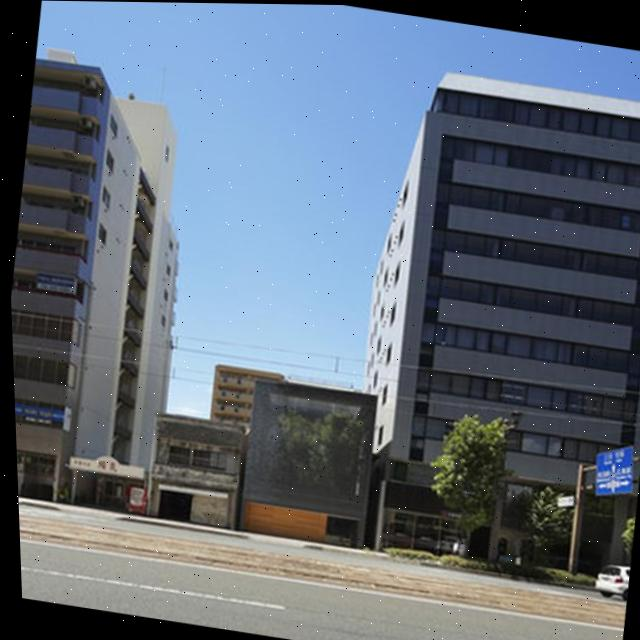building: (328, 63, 640, 590), (2, 42, 219, 518), (232, 375, 387, 546), (138, 407, 249, 531), (206, 361, 289, 434), (61, 449, 153, 511)
